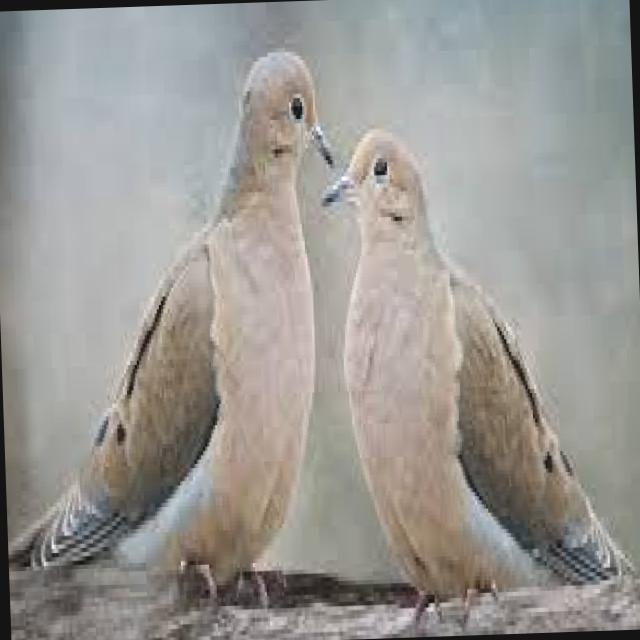bird: (0, 41, 350, 629), (313, 98, 640, 639)
